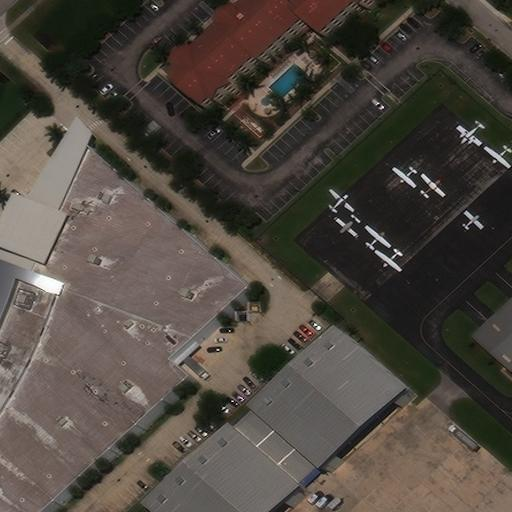Small Civil Transport: (366, 224, 393, 248), (454, 122, 481, 146), (422, 172, 447, 196), (482, 147, 509, 169), (373, 250, 399, 272), (333, 216, 357, 239), (330, 188, 355, 210), (390, 168, 415, 189), (463, 209, 484, 228)
